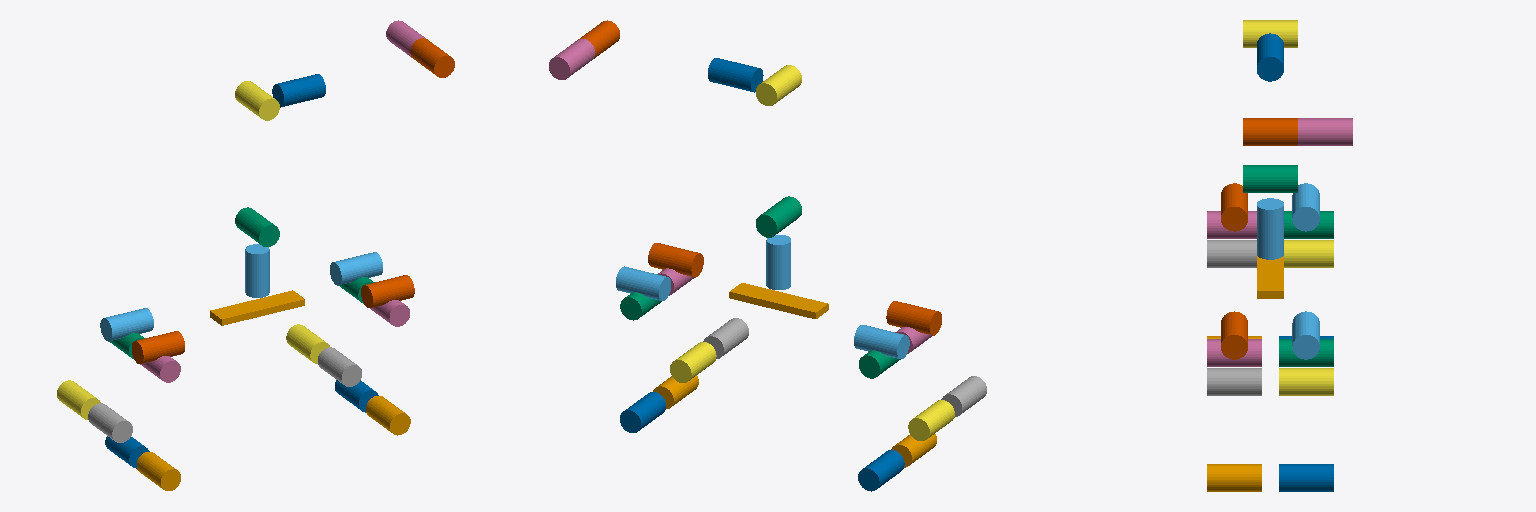
--- What the picture shows (computed from the rendered views, not written in the file) ---
Views: 3 orthographic renders of the robot side by side, from view 1: azimuth 30°, elevation 25°; view 2: azimuth 150°, elevation 25°; view 3: azimuth 270°, elevation 25°.
Model quadruped_arm_robot with 23 links and 22 joints (17 revolute, 5 fixed), rooted at base_link, posed every joint at zero.
Links seen in each view (by area): view 1: base_link, M0_big, M3_50, frontRight_hip_motor, backLeft_hip_motor, backRight_hip_motor, frontLeft_hip_motor, backRight_ankle, M2_100, M4_50, M1_100, frontRight_foot (+9 smaller); view 2: base_link, M0_big, backLeft_hip_motor, M3_50, frontRight_hip_motor, backRight_hip_motor, frontLeft_hip_motor, backLeft_ankle, M1_100, endEfector, frontLeft_ankle, backLeft_foot (+9 smaller); view 3: M0_big, frontLeft_ankle, frontLeft_foot, frontRight_ankle, frontRight_foot, M1_100, M4_50, endEfector, backLeft_ankle, backRight_ankle, M2_100, frontLeft_hip_motor (+9 smaller).
Link boxes in pixels (left/top/right/bottom): base_link: left=210, top=290, right=304, bottom=325; M0_big: left=245, top=244, right=269, bottom=297; M3_50: left=272, top=74, right=325, bottom=107; frontRight_hip_motor: left=361, top=275, right=414, bottom=307; backLeft_hip_motor: left=100, top=308, right=153, bottom=341; backRight_hip_motor: left=132, top=331, right=184, bottom=363; frontLeft_hip_motor: left=330, top=252, right=382, bottom=285; backRight_ankle: left=88, top=403, right=132, bottom=442; M2_100: left=235, top=81, right=279, bottom=120; M4_50: left=410, top=38, right=454, bottom=77; M1_100: left=235, top=207, right=279, bottom=246; frontRight_foot: left=366, top=396, right=410, bottom=435; base_link: left=729, top=283, right=828, bottom=318; M0_big: left=766, top=235, right=790, bottom=289; backLeft_hip_motor: left=854, top=325, right=909, bottom=358; M3_50: left=708, top=58, right=763, bottom=92; frontRight_hip_motor: left=648, top=243, right=703, bottom=277; backRight_hip_motor: left=886, top=301, right=941, bottom=335; frontLeft_hip_motor: left=616, top=266, right=670, bottom=300; backLeft_ankle: left=908, top=400, right=954, bottom=440; M1_100: left=756, top=196, right=801, bottom=237; endEfector: left=549, top=39, right=594, bottom=79; frontLeft_ankle: left=670, top=342, right=716, bottom=382; backLeft_foot: left=858, top=450, right=904, bottom=491; M0_big: left=1257, top=198, right=1283, bottom=259; frontLeft_ankle: left=1279, top=368, right=1333, bottom=395; frontLeft_foot: left=1279, top=464, right=1333, bottom=491; frontRight_ankle: left=1207, top=368, right=1261, bottom=395; frontRight_foot: left=1207, top=464, right=1261, bottom=491; M1_100: left=1243, top=165, right=1297, bottom=192; M4_50: left=1243, top=118, right=1297, bottom=145; endEfector: left=1298, top=118, right=1352, bottom=145; backLeft_ankle: left=1284, top=240, right=1333, bottom=267; backRight_ankle: left=1207, top=240, right=1256, bottom=267; M2_100: left=1243, top=20, right=1297, bottom=47; frontLeft_hip_motor: left=1292, top=311, right=1319, bottom=359.
Size in the robot's own frame: 0.8597 by 0.265 by 0.8091 metres.
Geometry: primitives only (box / cylinder / sphere), no mesh files.

The robot description file, URDF, robot "quadruped_arm_robot":
<?xml version="1.0"?>
<robot name="quadruped_arm_robot">
  
  
 
  
  <link name="base_link">
    
    <inertial>
      <origin xyz="0  0 0"/>
      <mass value="0.12857"/>
      <inertia ixx="0.0003" iyy="0.0000" izz="0.0000" ixy="0" ixz="0" iyz="0"/>
    </inertial>
    <visual   ><geometry><box size="0.2 0.05 0.015"/></geometry></visual>
    <collision><geometry><box size="0.1 0.05 0.02"/></geometry></collision>
    
  </link>
  
  <link name="frontLeft_hip_motor">
    <inertial><mass value="0.158"/><origin xyz="0 0 0"/>
      <inertia ixx="0.00016" iyy="0.00016" izz="0.00016" ixy="0" ixz="0" iyz="0"/></inertial>
    <visual   ><geometry><cylinder radius="0.025" length="0.1"/></geometry></visual>
    <collision><geometry><cylinder radius="0.025" length="0.1"/></geometry></collision>
  </link>
  <joint name="frontLeft_hip_motor_joint" type="revolute">
    <parent link="base_link"/>
    <child  link="frontLeft_hip_motor"/>
    <origin xyz="0.275 0.065 0" rpy="0 1.5708 0"/>
    <axis xyz="0 0 1"/>
    <limit lower="-3.14" upper="3.14" effort="5.88" velocity="1"/>
    
  </joint>

  <link name="frontLeft_knee">
    <inertial><mass value="0.158"/><origin xyz="0 0 0"/>
      <inertia ixx="0.00016" iyy="0.00016" izz="0.00016" ixy="0" ixz="0" iyz="0"/></inertial>
    <visual   ><geometry><cylinder radius="0.025" length="0.1"/></geometry></visual>
    <collision><geometry><cylinder radius="0.025" length="0.1"/></geometry></collision>
  </link>
  <joint name="frontLeft_knee_joint" type="revolute">
    <parent link="frontLeft_hip_motor"/>
    <child  link="frontLeft_knee"/>
    <origin xyz="0.035 0 0" rpy="1.5708 0.8 0"/>
    <axis xyz="0 0 1"/>
    <limit lower="-1.57" upper="1.57" effort="5.88" velocity="1"/>
    
  </joint>

  <link name="frontLeft_ankle">
    <inertial><mass value="0.158"/><origin xyz="0 0 0"/>
      <inertia ixx="0.00016" iyy="0.00016" izz="0.00016" ixy="0" ixz="0" iyz="0"/></inertial>
    <visual   ><geometry><cylinder radius="0.025" length="0.1"/></geometry></visual>
    <collision><geometry><cylinder radius="0.025" length="0.1"/></geometry></collision>
  </link>
  <joint name="frontLeft_ankle_joint" type="revolute">
    <parent link="frontLeft_knee"/>
    <child  link="frontLeft_ankle"/>
    <origin xyz="0.16 0 0" rpy="0 0 1.5"/>
    <axis xyz="0 0 1"/>
    <limit lower="-3.14" upper="3.14" effort="5.88" velocity="1"/>
    
  </joint>

  <link name="frontLeft_foot">
    <inertial><mass value="0.01892"/><origin xyz="0 0 0"/>
      <inertia ixx="2e-5" iyy="2e-5" izz="2e-5" ixy="0" ixz="0" iyz="0"/></inertial>
    <visual   ><geometry><cylinder radius="0.025" length="0.1"/></geometry></visual>
    <collision><geometry><cylinder radius="0.025" length="0.1"/></geometry></collision>
  </link>
  <joint name="frontLeft_foot_joint" type="fixed">
    <parent link="frontLeft_ankle"/>
    <child  link="frontLeft_foot"/>
    <origin xyz="0.18 0 0"/>
  </joint>
 
  <link name="frontRight_hip_motor">
    <inertial><mass value="0.158"/><origin xyz="0 0 0"/>
      <inertia ixx="0.00016" iyy="0.00016" izz="0.00016" ixy="0" ixz="0" iyz="0"/></inertial>
    <visual   ><geometry><cylinder radius="0.025" length="0.1"/></geometry></visual>
    <collision><geometry><cylinder radius="0.025" length="0.1"/></geometry></collision>
  </link>
  <joint name="frontRight_hip_motor_joint" type="revolute">
    <parent link="base_link"/>
    <child  link="frontRight_hip_motor"/>
    <origin xyz="0.275 -0.065 0" rpy="0 1.5708 0"/>
    <axis xyz="0 0 1"/>
    <limit lower="-3.14" upper="3.14" effort="5.88" velocity="1"/>
  </joint>

  <link name="frontRight_knee">
    <inertial><mass value="0.158"/><origin xyz="0 0 0"/>
      <inertia ixx="0.00016" iyy="0.00016" izz="0.00016" ixy="0" ixz="0" iyz="0"/></inertial>
    <visual   ><geometry><cylinder radius="0.025" length="0.1"/></geometry></visual>
    <collision><geometry><cylinder radius="0.025" length="0.1"/></geometry></collision>
  </link>
  <joint name="frontRight_knee_joint" type="revolute">
    <parent link="frontRight_hip_motor"/>
    <child  link="frontRight_knee"/>
    <origin xyz="0.035 0 0" rpy="1.5708 0.8 0"/>
    <axis xyz="0 0 1"/>
    <limit lower="-1.57" upper="1.57" effort="5.88" velocity="1"/>
  </joint>

  <link name="frontRight_ankle">
    <inertial><mass value="0.158"/><origin xyz="0 0 0"/>
      <inertia ixx="0.00016" iyy="0.00016" izz="0.00016" ixy="0" ixz="0" iyz="0"/></inertial>
    <visual   ><geometry><cylinder radius="0.025" length="0.1"/></geometry></visual>
    <collision><geometry><cylinder radius="0.025" length="0.1"/></geometry></collision>
  </link>
  <joint name="frontRight_ankle_joint" type="revolute">
    <parent link="frontRight_knee"/>
    <child  link="frontRight_ankle"/>
    <origin xyz="0.16 0 0" rpy="0 0 1.5"/>
    <axis xyz="0 0 1"/>
    <limit lower="-3.14" upper="3.14" effort="5.88" velocity="1"/>
  </joint>

  <link name="frontRight_foot">
    <inertial><mass value="0.01892"/><origin xyz="0 0 0"/>
      <inertia ixx="2e-5" iyy="2e-5" izz="2e-5" ixy="0" ixz="0" iyz="0"/></inertial>
    <visual   ><geometry><cylinder radius="0.025" length="0.1"/></geometry></visual>
    <collision><geometry><cylinder radius="0.025" length="0.1"/></geometry></collision>
  </link>
  <joint name="frontRight_foot_joint" type="fixed">
    <parent link="frontRight_ankle"/>
    <child  link="frontRight_foot"/>
    <origin xyz="0.18 0 0"/>
  </joint>
  
<link name="backLeft_hip_motor">
    <inertial><mass value="0.158"/><origin xyz="0 0 0"/>
      <inertia ixx="0.00016" iyy="0.00016" izz="0.00016" ixy="0" ixz="0" iyz="0"/></inertial>
    <visual   ><geometry><cylinder radius="0.025" length="0.1"/></geometry></visual>
    <collision><geometry><cylinder radius="0.025" length="0.1"/></geometry></collision>
  </link>
  <joint name="backLeft_hip_motor_joint" type="revolute">
    <parent link="base_link"/>
    <child  link="backLeft_hip_motor"/>
    <origin xyz="-0.275 0.065 0" rpy="0 1.5708 0"/>
    <axis xyz="0 0 1"/>
    <limit lower="-3.14" upper="3.14" effort="5.88" velocity="1"/>
  </joint>

  <link name="backLeft_knee">
    <inertial><mass value="0.158"/><origin xyz="0 0 0"/>
      <inertia ixx="0.00016" iyy="0.00016" izz="0.00016" ixy="0" ixz="0" iyz="0"/></inertial>
    <visual   ><geometry><cylinder radius="0.025" length="0.1"/></geometry></visual>
    <collision><geometry><cylinder radius="0.025" length="0.1"/></geometry></collision>
  </link>
  <joint name="backLeft_knee_joint" type="revolute">
    <parent link="backLeft_hip_motor"/>
    <child  link="backLeft_knee"/>
    <origin xyz="0.035 0 0" rpy="1.5708 0.8 0"/>
    <axis xyz="0 0 1"/>
    <limit lower="-1.57" upper="1.57" effort="5.88" velocity="1"/>
  </joint>

  <link name="backLeft_ankle">
    <inertial><mass value="0.158"/><origin xyz="0 0 0"/>
      <inertia ixx="0.00016" iyy="0.00016" izz="0.00016" ixy="0" ixz="0" iyz="0"/></inertial>
    <visual   ><geometry><cylinder radius="0.025" length="0.1"/></geometry></visual>
    <collision><geometry><cylinder radius="0.025" length="0.1"/></geometry></collision>
  </link>
  <joint name="backLeft_ankle_joint" type="revolute">
    <parent link="backLeft_knee"/>
    <child  link="backLeft_ankle"/>
    <origin xyz="0.16 0 0" rpy="0 0 1.5"/>
    <axis xyz="0 0 1"/>
    <limit lower="-3.14" upper="3.14" effort="5.88" velocity="1"/>
  </joint>

  <link name="backLeft_foot">
    <inertial><mass value="0.01892"/><origin xyz="0 0 0"/>
      <inertia ixx="2e-5" iyy="2e-5" izz="2e-5" ixy="0" ixz="0" iyz="0"/></inertial>
    <visual   ><geometry><cylinder radius="0.025" length="0.1"/></geometry></visual>
    <collision><geometry><cylinder radius="0.025" length="0.1"/></geometry></collision>
  </link>
  <joint name="backLeft_foot_joint" type="fixed">
    <parent link="backLeft_ankle"/>
    <child  link="backLeft_foot"/>
    <origin xyz="0.18 0 0"/>
  </joint>
 
  <link name="backRight_hip_motor">
    <inertial><mass value="0.158"/><origin xyz="0 0 0"/>
      <inertia ixx="0.00016" iyy="0.00016" izz="0.00016" ixy="0" ixz="0" iyz="0"/></inertial>
    <visual   ><geometry><cylinder radius="0.025" length="0.1"/></geometry></visual>
    <collision><geometry><cylinder radius="0.025" length="0.1"/></geometry></collision>
  </link>
  <joint name="backRight_hip_motor_joint" type="revolute">
    <parent link="base_link"/>
    <child  link="backRight_hip_motor"/>
    <origin xyz="-0.275 -0.065 0" rpy="0 1.5708 0"/>
    <axis xyz="0 0 1"/>
    <limit lower="-3.14" upper="3.14" effort="5.88" velocity="1"/>
  </joint>

  <link name="backRight_knee">
    <inertial><mass value="0.158"/><origin xyz="0 0 0"/>
      <inertia ixx="0.00016" iyy="0.00016" izz="0.00016" ixy="0" ixz="0" iyz="0"/></inertial>
    <visual   ><geometry><cylinder radius="0.025" length="0.1"/></geometry></visual>
    <collision><geometry><cylinder radius="0.025" length="0.1"/></geometry></collision>
  </link>
  <joint name="backRight_knee_joint" type="revolute">
    <parent link="backRight_hip_motor"/>
    <child  link="backRight_knee"/>
    <origin xyz="0.035 0 0" rpy="1.5708 0.8 0"/>
    <axis xyz="0 0 1"/>
    <limit lower="-1.57" upper="1.57" effort="5.88" velocity="1"/>
  </joint>

  <link name="backRight_ankle">
    <inertial><mass value="0.158"/><origin xyz="0 0 0"/>
      <inertia ixx="0.00016" iyy="0.00016" izz="0.00016" ixy="0" ixz="0" iyz="0"/></inertial>
    <visual   ><geometry><cylinder radius="0.025" length="0.1"/></geometry></visual>
    <collision><geometry><cylinder radius="0.025" length="0.1"/></geometry></collision>
  </link>
  <joint name="backRight_ankle_joint" type="revolute">
    <parent link="backRight_knee"/>
    <child  link="backRight_ankle"/>
    <origin xyz="0.16 0 0" rpy="0 0 1.5"/>
    <axis xyz="0 0 1"/>
    <limit lower="-3.14" upper="3.14" effort="5.88" velocity="1"/>
  </joint>

  <link name="backRight_foot">
    <inertial><mass value="0.01892"/><origin xyz="0 0 0"/>
      <inertia ixx="2e-5" iyy="2e-5" izz="2e-5" ixy="0" ixz="0" iyz="0"/></inertial>
    <visual   ><geometry><cylinder radius="0.025" length="0.1"/></geometry></visual>
    <collision><geometry><cylinder radius="0.025" length="0.1"/></geometry></collision>
  </link>
  <joint name="backRight_foot_joint" type="fixed">
    <parent link="backRight_ankle"/>
    <child  link="backRight_foot"/>
    <origin xyz="0.18 0 0"/>
  </joint>

  <link name="M0_big">
    <inertial><mass value="0.158"/><origin xyz="0 0 0"/>
      <inertia ixx="0.00016" iyy="0.00016" izz="0.00016" ixy="0" ixz="0" iyz="0"/></inertial>
    <visual   ><geometry><cylinder radius="0.025" length="0.1"/></geometry></visual>
    <collision><geometry><cylinder radius="0.025" length="0.1"/></geometry></collision>
  </link>
  <joint name="articulacion1" type="revolute">
    <parent link="base_link"/>
    <child  link="M0_big"/>
    <origin xyz="0 0 0.085" rpy="0 0 0"/>
    <axis xyz="0 0 1"/>
    <limit lower="-3.14" upper="3.14" effort="49.03325" velocity="1"/>
  </joint>

  <link name="M1_100">
    <inertial><mass value="0.158"/><origin xyz="0 0 0"/>
      <inertia ixx="0.00016" iyy="0.00016" izz="0.00016" ixy="0" ixz="0" iyz="0"/></inertial>
    <visual   ><geometry><cylinder radius="0.025" length="0.1"/></geometry></visual>
    <collision><geometry><cylinder radius="0.025" length="0.1"/></geometry></collision>
  </link>
  <joint name="articulacion2" type="revolute">
    <parent link="M0_big"/>
    <child  link="M1_100"/>
    <origin xyz="0.0 0 0.1" rpy="-1.5708 0 0" />
    <axis xyz="0 0 1"/>
    <limit lower="-3.14" upper="3.14" effort="14.71" velocity="1"/>
  </joint>

  <link name="M2_100">
    <inertial><mass value="0.158"/><origin xyz="0 0 0"/>
      <inertia ixx="0.00016" iyy="0.00016" izz="0.00016" ixy="0" ixz="0" iyz="0"/></inertial>
    <visual   ><geometry><cylinder radius="0.025" length="0.1"/></geometry></visual>
    <collision><geometry><cylinder radius="0.025" length="0.1"/></geometry></collision>
  </link>
  <joint name="articulacion3" type="revolute">
    <parent link="M1_100"/>
    <child  link="M2_100"/>
    <origin xyz="0.0 -0.29  0  " rpy="0 0 0" />
    <axis xyz="0 0 1"/>
    <limit lower="-3.14" upper="3.14" effort="14.71" velocity="1"/>
  </joint>

 <link name="M3_50">
    <inertial><mass value="0.158"/><origin xyz="0 0 0"/>
      <inertia ixx="0.00016" iyy="0.00016" izz="0.00016" ixy="0" ixz="0" iyz="0"/></inertial>
    <visual   ><geometry><cylinder radius="0.025" length="0.1"/></geometry></visual>
    <collision><geometry><cylinder radius="0.025" length="0.1"/></geometry></collision>
  </link>
  <joint name="articulacion4" type="revolute">
    <parent link="M2_100"/>
    <child  link="M3_50"/>
    <origin xyz="0.1 0.0000 0" rpy=" 0 1.5708 0" />
    <axis xyz="0 0 1"/>
    <limit lower="-3.14" upper="3.14" effort="9.88" velocity="1"/>
  </joint>

  <link name="M4_50">
    <inertial><mass value="0.158"/><origin xyz="0 0 0"/>
      <inertia ixx="0.00016" iyy="0.00016" izz="0.00016" ixy="0" ixz="0" iyz="0"/></inertial>
    <visual   ><geometry><cylinder radius="0.025" length="0.1"/></geometry></visual>
    <collision><geometry><cylinder radius="0.025" length="0.1"/></geometry></collision>
  </link>
  <joint name="articulacion5" type="revolute">
    <parent link="M3_50"/>
    <child  link="M4_50"/>
    <origin xyz="0 0 0.32" rpy="0 -1.5708 0" />
    <axis xyz="0 0 1"/>
    <limit lower="-3.14" upper="3.14" effort="9.88" velocity="1"/>
  </joint>

  <link name="endEfector">
    <inertial><mass value="0.03000"/><origin xyz="0 0 0"/>
      <inertia ixx="0.00016" iyy="0.00016" izz="0.00016" ixy="0" ixz="0" iyz="0"/></inertial>
    <visual   ><geometry><cylinder radius="0.025" length="0.1"/></geometry></visual>
    <collision><geometry><cylinder radius="0.025" length="0.1"/></geometry></collision>
  </link>
  <joint name="endEfectorJoin" type="fixed">
    <parent link="M4_50"/>
    <child  link="endEfector"/>
    <origin xyz="0 0 0.1" rpy="0 0 0" />
    <axis xyz="0 0 1"/>
    
  </joint>

  <!-- Plugin para Gazebo ROS 2 Control -->
  
  <!-- Bloque ros2_control -->
  <ros2_control name="QuadrupedArmHardware" type="system">
    <hardware>
      <plugin>gazebo_ros2_control/GazeboSystem</plugin>
    </hardware>

    <!-- Interfaces de todas las articulaciones (piernas + brazo) -->
    <joint name="frontLeft_hip_motor_joint">
      <command_interface name="position"/>
      <state_interface name="position"/>
      <state_interface name="velocity"/>
    </joint>
    <joint name="frontLeft_knee_joint">
      <command_interface name="position"/>
      <state_interface name="position"/>
      <state_interface name="velocity"/>
    </joint>
    <joint name="frontLeft_ankle_joint">
      <command_interface name="position"/>
      <state_interface name="position"/>
      <state_interface name="velocity"/>
    </joint>
    <joint name="frontRight_hip_motor_joint">
      <command_interface name="position"/>
      <state_interface name="position"/>
      <state_interface name="velocity"/>
    </joint>
    <joint name="frontRight_knee_joint">
      <command_interface name="position"/>
      <state_interface name="position"/>
      <state_interface name="velocity"/>
    </joint>
    <joint name="frontRight_ankle_joint">
      <command_interface name="position"/>
      <state_interface name="position"/>
      <state_interface name="velocity"/>
    </joint>
    <joint name="backLeft_hip_motor_joint">
      <command_interface name="position"/>
      <state_interface name="position"/>
      <state_interface name="velocity"/>
    </joint>
    <joint name="backLeft_knee_joint">
      <command_interface name="position"/>
      <state_interface name="position"/>
      <state_interface name="velocity"/>
    </joint>
    <joint name="backLeft_ankle_joint">
      <command_interface name="position"/>
      <state_interface name="position"/>
      <state_interface name="velocity"/>
    </joint>
    <joint name="backRight_hip_motor_joint">
      <command_interface name="position"/>
      <state_interface name="position"/>
      <state_interface name="velocity"/>
    </joint>
    <joint name="backRight_knee_joint">
      <command_interface name="position"/>
      <state_interface name="position"/>
      <state_interface name="velocity"/>
    </joint>
    <joint name="backRight_ankle_joint">
      <command_interface name="position"/>
      <state_interface name="position"/>
      <state_interface name="velocity"/>
    </joint>
    <joint name="articulacion1">
      <command_interface name="position"/>
      <state_interface name="position"/>
      <state_interface name="velocity"/>
    </joint>
    <joint name="articulacion2">
      <command_interface name="position"/>
      <state_interface name="position"/>
      <state_interface name="velocity"/>
    </joint>
    <joint name="articulacion3">
      <command_interface name="position"/>
      <state_interface name="position"/>
      <state_interface name="velocity"/>
    </joint>
    <joint name="articulacion4">
      <command_interface name="position"/>
      <state_interface name="position"/>
      <state_interface name="velocity"/>
    </joint>
    <joint name="articulacion5">
      <command_interface name="position"/>
      <state_interface name="position"/>
      <state_interface name="velocity"/>
    </joint>
  </ros2_control>
<!-- Pierna frontal izquierda -->
  <transmission name="frontLeft_hip_trans">
    <type>transmission_interface/SimpleTransmission</type>
    <joint name="frontLeft_hip_motor_joint">
      <hardwareInterface>hardware_interface/PositionJointInterface</hardwareInterface>
    </joint>
    <actuator name="frontLeft_hip_motor_actuator">
      <mechanicalReduction>1</mechanicalReduction>
    </actuator>
  </transmission>
  <transmission name="frontLeft_knee_trans">
    <type>transmission_interface/SimpleTransmission</type>
    <joint name="frontLeft_knee_joint">
      <hardwareInterface>hardware_interface/PositionJointInterface</hardwareInterface>
    </joint>
    <actuator name="frontLeft_knee_actuator">
      <mechanicalReduction>1</mechanicalReduction>
    </actuator>
  </transmission>
  <transmission name="frontLeft_ankle_trans">
    <type>transmission_interface/SimpleTransmission</type>
    <joint name="frontLeft_ankle_joint">
      <hardwareInterface>hardware_interface/PositionJointInterface</hardwareInterface>
    </joint>
    <actuator name="frontLeft_ankle_actuator">
      <mechanicalReduction>1</mechanicalReduction>
    </actuator>
  </transmission>

  <!-- Pierna frontal derecha -->
  <transmission name="frontRight_hip_trans">
    <type>transmission_interface/SimpleTransmission</type>
    <joint name="frontRight_hip_motor_joint">
      <hardwareInterface>hardware_interface/PositionJointInterface</hardwareInterface>
    </joint>
    <actuator name="frontRight_hip_motor_actuator">
      <mechanicalReduction>1</mechanicalReduction>
    </actuator>
  </transmission>
  <transmission name="frontRight_knee_trans">
    <type>transmission_interface/SimpleTransmission</type>
    <joint name="frontRight_knee_joint">
      <hardwareInterface>hardware_interface/PositionJointInterface</hardwareInterface>
    </joint>
    <actuator name="frontRight_knee_actuator">
      <mechanicalReduction>1</mechanicalReduction>
    </actuator>
  </transmission>
  <transmission name="frontRight_ankle_trans">
    <type>transmission_interface/SimpleTransmission</type>
    <joint name="frontRight_ankle_joint">
      <hardwareInterface>hardware_interface/PositionJointInterface</hardwareInterface>
    </joint>
    <actuator name="frontRight_ankle_actuator">
      <mechanicalReduction>1</mechanicalReduction>
    </actuator>
  </transmission>

  <!-- Pierna trasera izquierda -->
  <transmission name="backLeft_hip_trans">
    <type>transmission_interface/SimpleTransmission</type>
    <joint name="backLeft_hip_motor_joint">
      <hardwareInterface>hardware_interface/PositionJointInterface</hardwareInterface>
    </joint>
    <actuator name="backLeft_hip_motor_actuator">
      <mechanicalReduction>1</mechanicalReduction>
    </actuator>
  </transmission>
  <transmission name="backLeft_knee_trans">
    <type>transmission_interface/SimpleTransmission</type>
    <joint name="backLeft_knee_joint">
      <hardwareInterface>hardware_interface/PositionJointInterface</hardwareInterface>
    </joint>
    <actuator name="backLeft_knee_actuator">
      <mechanicalReduction>1</mechanicalReduction>
    </actuator>
  </transmission>
  <transmission name="backLeft_ankle_trans">
    <type>transmission_interface/SimpleTransmission</type>
    <joint name="backLeft_ankle_joint">
      <hardwareInterface>hardware_interface/PositionJointInterface</hardwareInterface>
    </joint>
    <actuator name="backLeft_ankle_actuator">
      <mechanicalReduction>1</mechanicalReduction>
    </actuator>
  </transmission>

  <!-- Pierna trasera derecha -->
  <transmission name="backRight_hip_trans">
    <type>transmission_interface/SimpleTransmission</type>
    <joint name="backRight_hip_motor_joint">
      <hardwareInterface>hardware_interface/PositionJointInterface</hardwareInterface>
    </joint>
    <actuator name="backRight_hip_motor_actuator">
      <mechanicalReduction>1</mechanicalReduction>
    </actuator>
  </transmission>
  <transmission name="backRight_knee_trans">
    <type>transmission_interface/SimpleTransmission</type>
    <joint name="backRight_knee_joint">
      <hardwareInterface>hardware_interface/PositionJointInterface</hardwareInterface>
    </joint>
    <actuator name="backRight_knee_actuator">
      <mechanicalReduction>1</mechanicalReduction>
    </actuator>
  </transmission>
  <transmission name="backRight_ankle_trans">
    <type>transmission_interface/SimpleTransmission</type>
    <joint name="backRight_ankle_joint">
      <hardwareInterface>hardware_interface/PositionJointInterface</hardwareInterface>
    </joint>
    <actuator name="backRight_ankle_actuator">
      <mechanicalReduction>1</mechanicalReduction>
    </actuator>
  </transmission>

  <!-- Brazo -->
  <transmission name="arm_joint1_trans">
    <type>transmission_interface/SimpleTransmission</type>
    <joint name="articulacion1">
      <hardwareInterface>hardware_interface/PositionJointInterface</hardwareInterface>
    </joint>
    <actuator name="arm_joint1_actuator">
      <mechanicalReduction>1</mechanicalReduction>
    </actuator>
  </transmission>
  <transmission name="arm_joint2_trans">
    <type>transmission_interface/SimpleTransmission</type>
    <joint name="articulacion2">
      <hardwareInterface>hardware_interface/PositionJointInterface</hardwareInterface>
    </joint>
    <actuator name="arm_joint2_actuator">
      <mechanicalReduction>1</mechanicalReduction>
    </actuator>
  </transmission>
  <transmission name="arm_joint3_trans">
    <type>transmission_interface/SimpleTransmission</type>
    <joint name="articulacion3">
      <hardwareInterface>hardware_interface/PositionJointInterface</hardwareInterface>
    </joint>
    <actuator name="arm_joint3_actuator">
      <mechanicalReduction>1</mechanicalReduction>
    </actuator>
  </transmission>
  <transmission name="arm_joint4_trans">
    <type>transmission_interface/SimpleTransmission</type>
    <joint name="articulacion4">
      <hardwareInterface>hardware_interface/PositionJointInterface</hardwareInterface>
    </joint>
    <actuator name="arm_joint4_actuator">
      <mechanicalReduction>1</mechanicalReduction>
    </actuator>
  </transmission>
  <transmission name="arm_joint5_trans">
    <type>transmission_interface/SimpleTransmission</type>
    <joint name="articulacion5">
      <hardwareInterface>hardware_interface/PositionJointInterface</hardwareInterface>
    </joint>
    <actuator name="arm_joint5_actuator">
      <mechanicalReduction>1</mechanicalReduction>
    </actuator>
  </transmission>
  <gazebo>
    <plugin filename="libgazebo_ros2_control.so" name="gazebo_ros2_control">
      <robot_sim_type>gazebo_ros2_control/GazeboSystem</robot_sim_type>
      <parameters>[local-path]/ros2_orange/src/quadruped_arm_motion/config/controllers.yaml</parameters>
    </plugin>
  </gazebo>
</robot>
